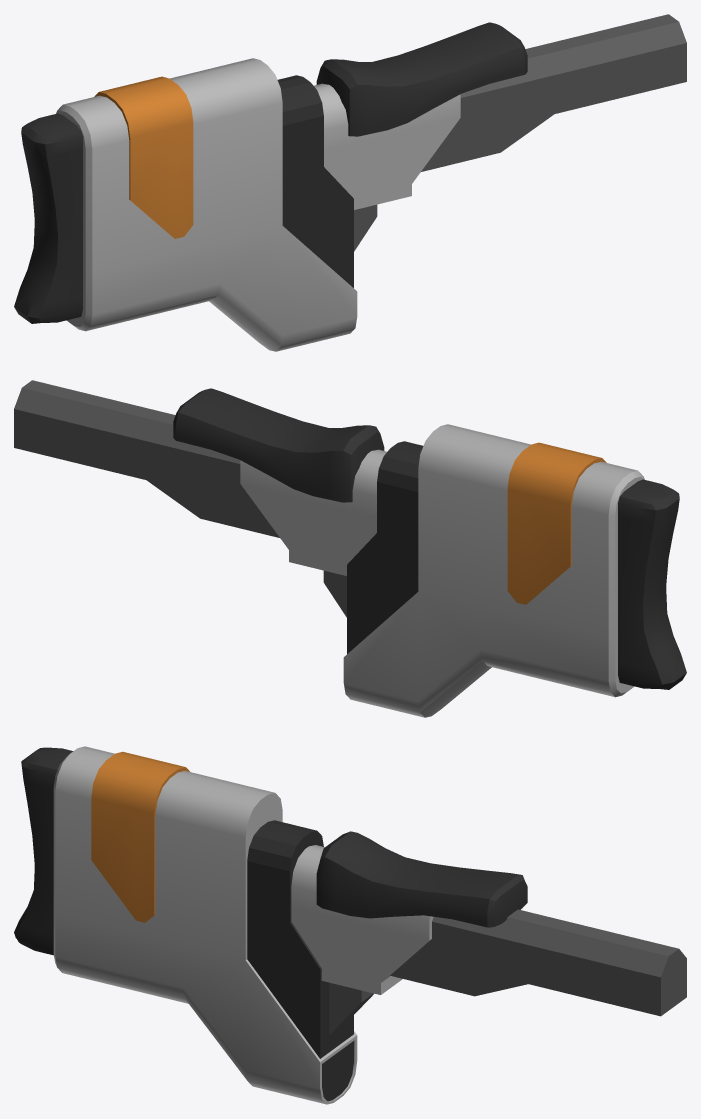
Rendered from Stock_2.gltf.
3 renders of one model, top to bottom at view 1: azimuth 30°, elevation 25°; view 2: azimuth 150°, elevation 25°; view 3: azimuth 330°, elevation 25°, orthographic.
Parts seen in each view (by area): view 1: Stock_2; view 2: Stock_2; view 3: Stock_2.
Boxes of the visible parts, x1,y1,x2,y2 form: Stock_2: (14,14,686,351); Stock_2: (14,380,686,717); Stock_2: (14,746,686,1104).
Bounding box in the file's own units: 1.12 × 0.4686 × 0.1155.
